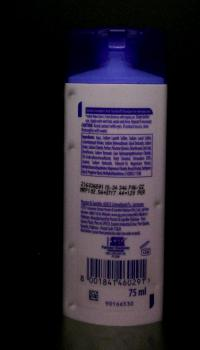dent_unacceptable: (64, 298, 82, 316), (65, 240, 81, 258), (66, 86, 80, 103), (150, 195, 164, 212), (66, 139, 78, 158)
